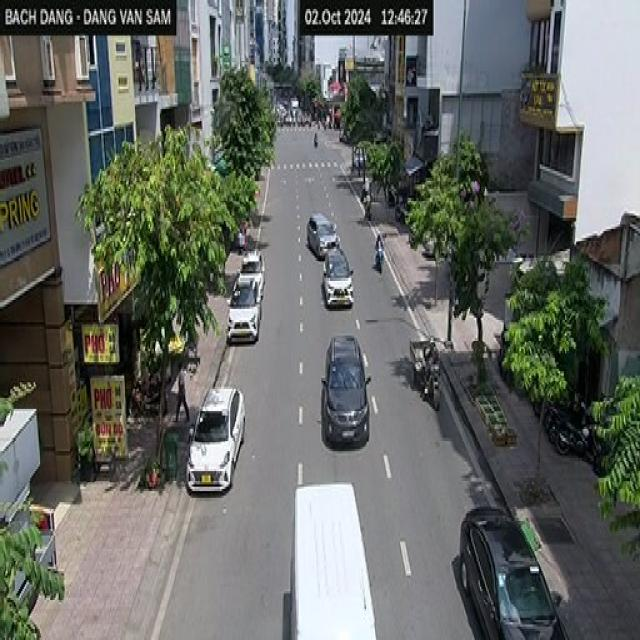car: (459, 504, 569, 638), (185, 384, 245, 494), (320, 333, 370, 447), (228, 267, 264, 353), (321, 246, 354, 306), (306, 211, 340, 258), (238, 247, 275, 284)
motorcycle: (417, 354, 448, 416), (369, 249, 386, 275), (365, 193, 377, 213)
person: (420, 328, 440, 378), (172, 362, 188, 422), (360, 171, 376, 211), (374, 231, 384, 269)
truck: (282, 478, 378, 638)
